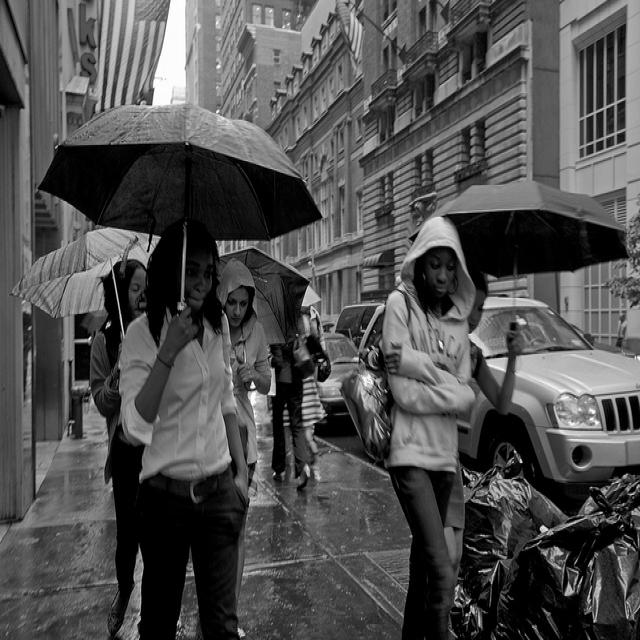Vehicle: (459, 295, 639, 498), (316, 330, 360, 434), (334, 300, 386, 348)
